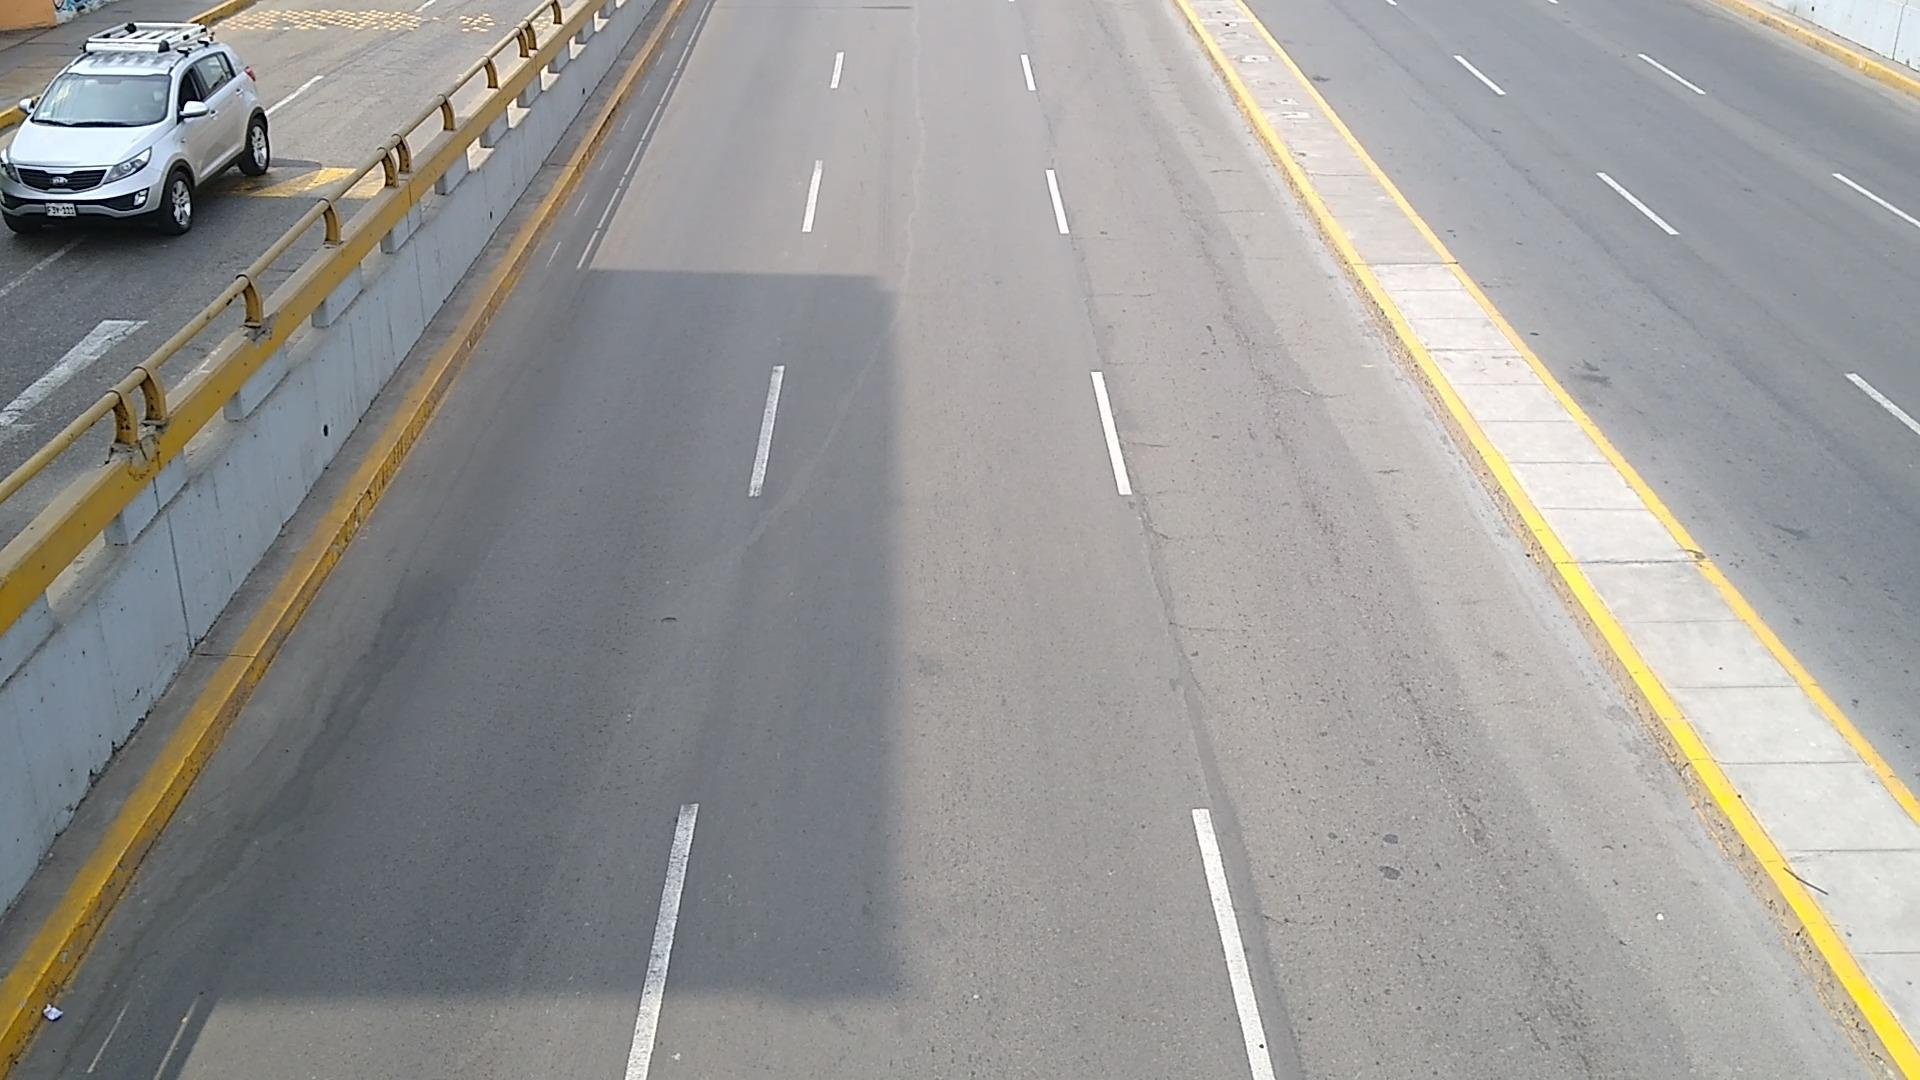car: (0, 22, 270, 236)
